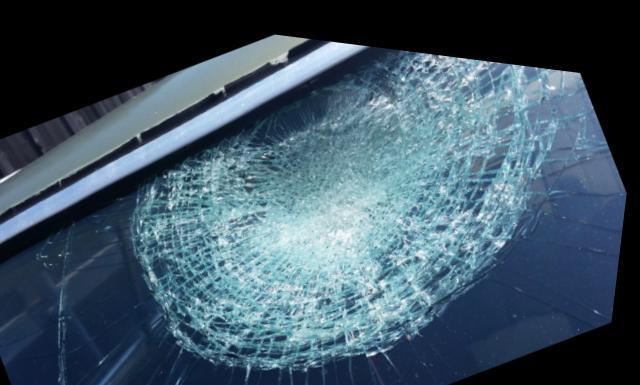glass shatter: (0, 37, 629, 385)
